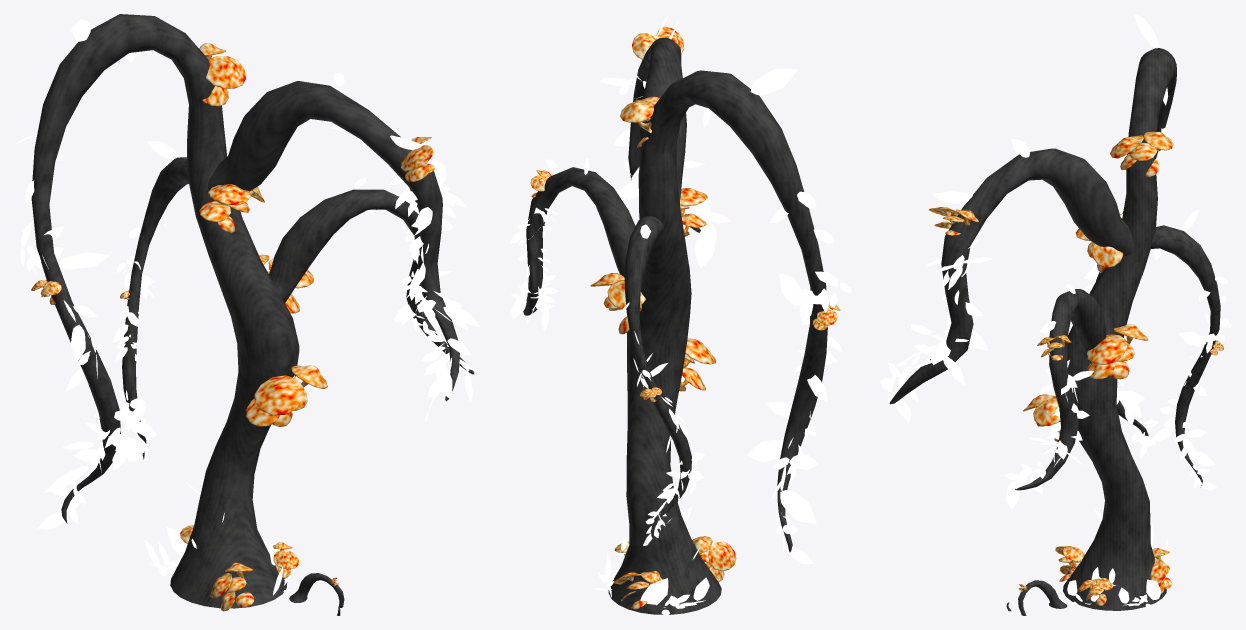
Rendered from treeCOMPLETE.fbx.
3 renders of one model, left to right at view 1: azimuth 30°, elevation 25°; view 2: azimuth 150°, elevation 25°; view 3: azimuth 270°, elevation 25°, orthographic. The views are drawn at different scales.
Parts seen in each view (by area): view 1: TreeShrooms; view 2: TreeShrooms; view 3: TreeShrooms.
Part boxes in pixels (x1,y1,x2,y2): TreeShrooms: (15,14,480,615); TreeShrooms: (509,15,851,615); TreeShrooms: (880,14,1231,615).
Bounding box in the file's own units: 507 × 719 × 444.
